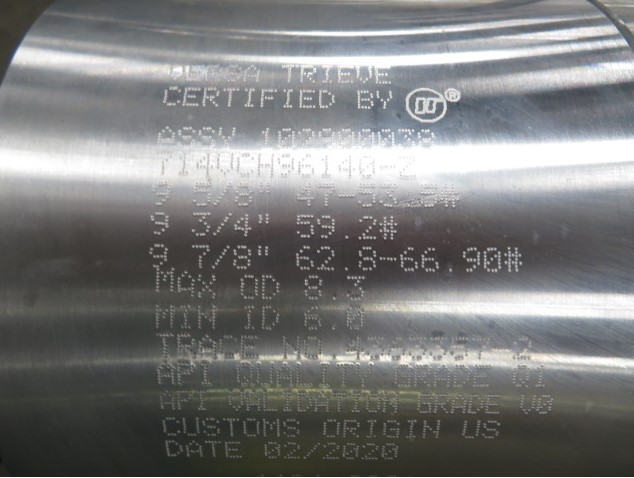character: (344, 273, 368, 303), (234, 359, 257, 390), (291, 211, 316, 239), (146, 242, 171, 270), (236, 272, 259, 302), (395, 245, 420, 272), (195, 303, 220, 330), (195, 333, 219, 361), (396, 152, 419, 181), (259, 273, 281, 303), (316, 244, 337, 275), (151, 302, 176, 328), (278, 333, 303, 359), (189, 242, 212, 270), (481, 246, 504, 274), (293, 243, 315, 272), (301, 273, 323, 302), (217, 332, 239, 361), (154, 266, 175, 296), (150, 180, 173, 207), (190, 209, 213, 236), (293, 360, 315, 388), (419, 182, 440, 211), (302, 304, 323, 333), (153, 331, 174, 360), (344, 333, 365, 362), (175, 268, 195, 298), (148, 210, 171, 236), (355, 214, 378, 240), (344, 305, 367, 331), (216, 125, 238, 152), (191, 180, 213, 207), (378, 181, 400, 208), (260, 304, 282, 331), (472, 363, 494, 390), (461, 246, 482, 274), (239, 332, 260, 360), (355, 362, 376, 390), (450, 333, 470, 362), (254, 361, 276, 387), (211, 243, 232, 270), (419, 247, 440, 274), (196, 272, 217, 299), (155, 361, 176, 388), (393, 363, 414, 390), (412, 362, 433, 389), (511, 364, 532, 391), (357, 181, 377, 209), (428, 334, 448, 362), (256, 150, 275, 179), (303, 334, 322, 363), (335, 361, 354, 390), (154, 125, 176, 150), (450, 364, 472, 389), (297, 151, 318, 177), (231, 244, 252, 270), (212, 211, 232, 238), (367, 335, 386, 363), (276, 362, 295, 390), (179, 414, 201, 438), (340, 416, 362, 440), (416, 127, 437, 152), (153, 151, 174, 176), (356, 245, 377, 270), (407, 336, 428, 361), (234, 180, 254, 206), (316, 181, 336, 207), (387, 335, 407, 361), (422, 418, 442, 444), (277, 124, 296, 151), (396, 124, 415, 151), (236, 152, 255, 179), (297, 181, 316, 208), (175, 361, 194, 388), (185, 61, 206, 85), (374, 88, 395, 112), (232, 212, 253, 236), (318, 213, 336, 241), (381, 417, 402, 441), (481, 418, 502, 442), (261, 417, 281, 442), (198, 125, 217, 151), (357, 153, 376, 179), (176, 333, 195, 359), (471, 334, 490, 360), (432, 363, 451, 389), (195, 152, 213, 179), (277, 151, 295, 178), (198, 359, 216, 386), (160, 416, 182, 438), (162, 439, 184, 461), (161, 84, 182, 107), (321, 417, 341, 441), (183, 84, 202, 109), (177, 125, 196, 150), (175, 153, 194, 178), (513, 335, 531, 361), (318, 361, 334, 390), (316, 89, 337, 111), (202, 62, 222, 85), (157, 389, 177, 412), (537, 393, 557, 416), (200, 416, 220, 439), (184, 439, 204, 462), (222, 438, 242, 461), (262, 439, 282, 462), (298, 126, 317, 150), (241, 389, 260, 413), (340, 440, 359, 464), (336, 62, 354, 87), (260, 387, 278, 412), (241, 63, 262, 84), (281, 440, 302, 461), (215, 151, 235, 173), (462, 420, 482, 442), (380, 443, 400, 465), (337, 126, 356, 149), (313, 392, 332, 415), (241, 417, 260, 440), (176, 389, 194, 413), (415, 392, 433, 416), (339, 153, 356, 178), (223, 63, 243, 84), (354, 89, 375, 109), (240, 303, 255, 331), (280, 63, 299, 85), (299, 63, 318, 85), (299, 88, 318, 110), (534, 363, 550, 389), (202, 86, 220, 109), (222, 86, 240, 109), (259, 86, 277, 109), (318, 126, 336, 149), (381, 391, 399, 414), (485, 393, 503, 416), (222, 416, 240, 439), (320, 153, 335, 180), (177, 303, 193, 328), (435, 391, 451, 416), (358, 443, 379, 462), (374, 63, 392, 85), (377, 127, 395, 149), (295, 392, 313, 414), (358, 126, 375, 149), (227, 389, 244, 412), (467, 392, 484, 415), (519, 392, 536, 415), (365, 390, 381, 414), (354, 62, 372, 83), (331, 391, 348, 413), (205, 438, 222, 460), (242, 85, 258, 108), (452, 392, 467, 416), (364, 417, 379, 441), (322, 441, 340, 461), (283, 418, 300, 439), (259, 126, 274, 149), (194, 388, 209, 411), (167, 62, 185, 81), (282, 86, 295, 112), (405, 417, 418, 443), (350, 391, 363, 414), (281, 391, 293, 414), (321, 64, 334, 84)
